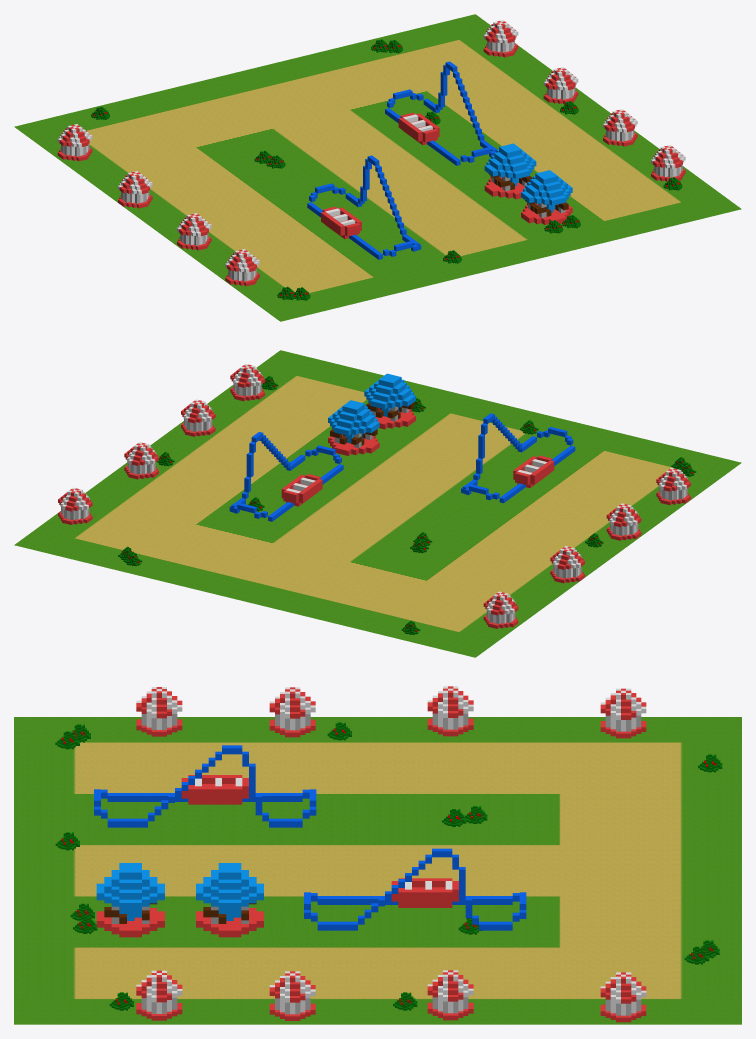
The model's file is Map19.fbx.
3 renders of one model, top to bottom at view 1: azimuth 30°, elevation 25°; view 2: azimuth 150°, elevation 25°; view 3: azimuth 270°, elevation 25°, orthographic. The views are drawn at different scales.
Parts seen in each view (by area): view 1: pPlane1, JetCoaster1, JetCoaster, MerryGoRound1, MerryGoRound, MagicRoom1, MagicRoom4, MagicRoom3, MagicRoom6, MagicRoom5, MagicRoom, MagicRoom7 (+1 smaller); view 2: pPlane1, JetCoaster, JetCoaster1, MerryGoRound, MerryGoRound1, MagicRoom6, MagicRoom4, MagicRoom, MagicRoom1, MagicRoom2, MagicRoom3, MagicRoom7 (+1 smaller); view 3: pPlane1, JetCoaster1, JetCoaster, MerryGoRound1, MerryGoRound, MagicRoom2, MagicRoom5, MagicRoom3, MagicRoom4, MagicRoom, MagicRoom7, MagicRoom6 (+1 smaller).
Boxes of the visible parts, x1,y1,x2,y2 form: pPlane1: (14, 14, 741, 321); JetCoaster1: (307, 155, 421, 259); JetCoaster: (385, 61, 496, 165); MerryGoRound1: (521, 170, 572, 224); MerryGoRound: (484, 143, 536, 199); MagicRoom1: (603, 109, 637, 146); MagicRoom4: (57, 124, 92, 161); MagicRoom3: (483, 20, 518, 57); MagicRoom6: (177, 213, 211, 250); MagicRoom5: (118, 171, 152, 208); MagicRoom: (543, 67, 578, 104); MagicRoom7: (225, 249, 259, 286); pPlane1: (14, 350, 741, 657); JetCoaster: (229, 432, 343, 521); JetCoaster1: (461, 413, 575, 503); MerryGoRound: (328, 400, 379, 455); MerryGoRound1: (364, 373, 415, 429); MagicRoom6: (606, 503, 641, 540); MagicRoom4: (483, 591, 518, 628); MagicRoom: (124, 442, 158, 479); MagicRoom1: (181, 399, 215, 436); MagicRoom2: (230, 364, 264, 401); MagicRoom3: (58, 487, 92, 524); MagicRoom7: (656, 467, 690, 505); pPlane1: (14, 717, 741, 1024); JetCoaster1: (94, 745, 316, 827); JetCoaster: (304, 848, 526, 930); MerryGoRound1: (96, 863, 164, 937); MerryGoRound: (196, 863, 263, 937); MagicRoom2: (136, 970, 182, 1020); MagicRoom5: (427, 686, 473, 736); MagicRoom3: (600, 972, 646, 1022); MagicRoom4: (600, 688, 646, 738); MagicRoom: (427, 970, 473, 1020); MagicRoom7: (136, 687, 182, 736); MagicRoom6: (269, 687, 315, 737).
Size of the model in its own units: 60 by 7.77 by 60.
